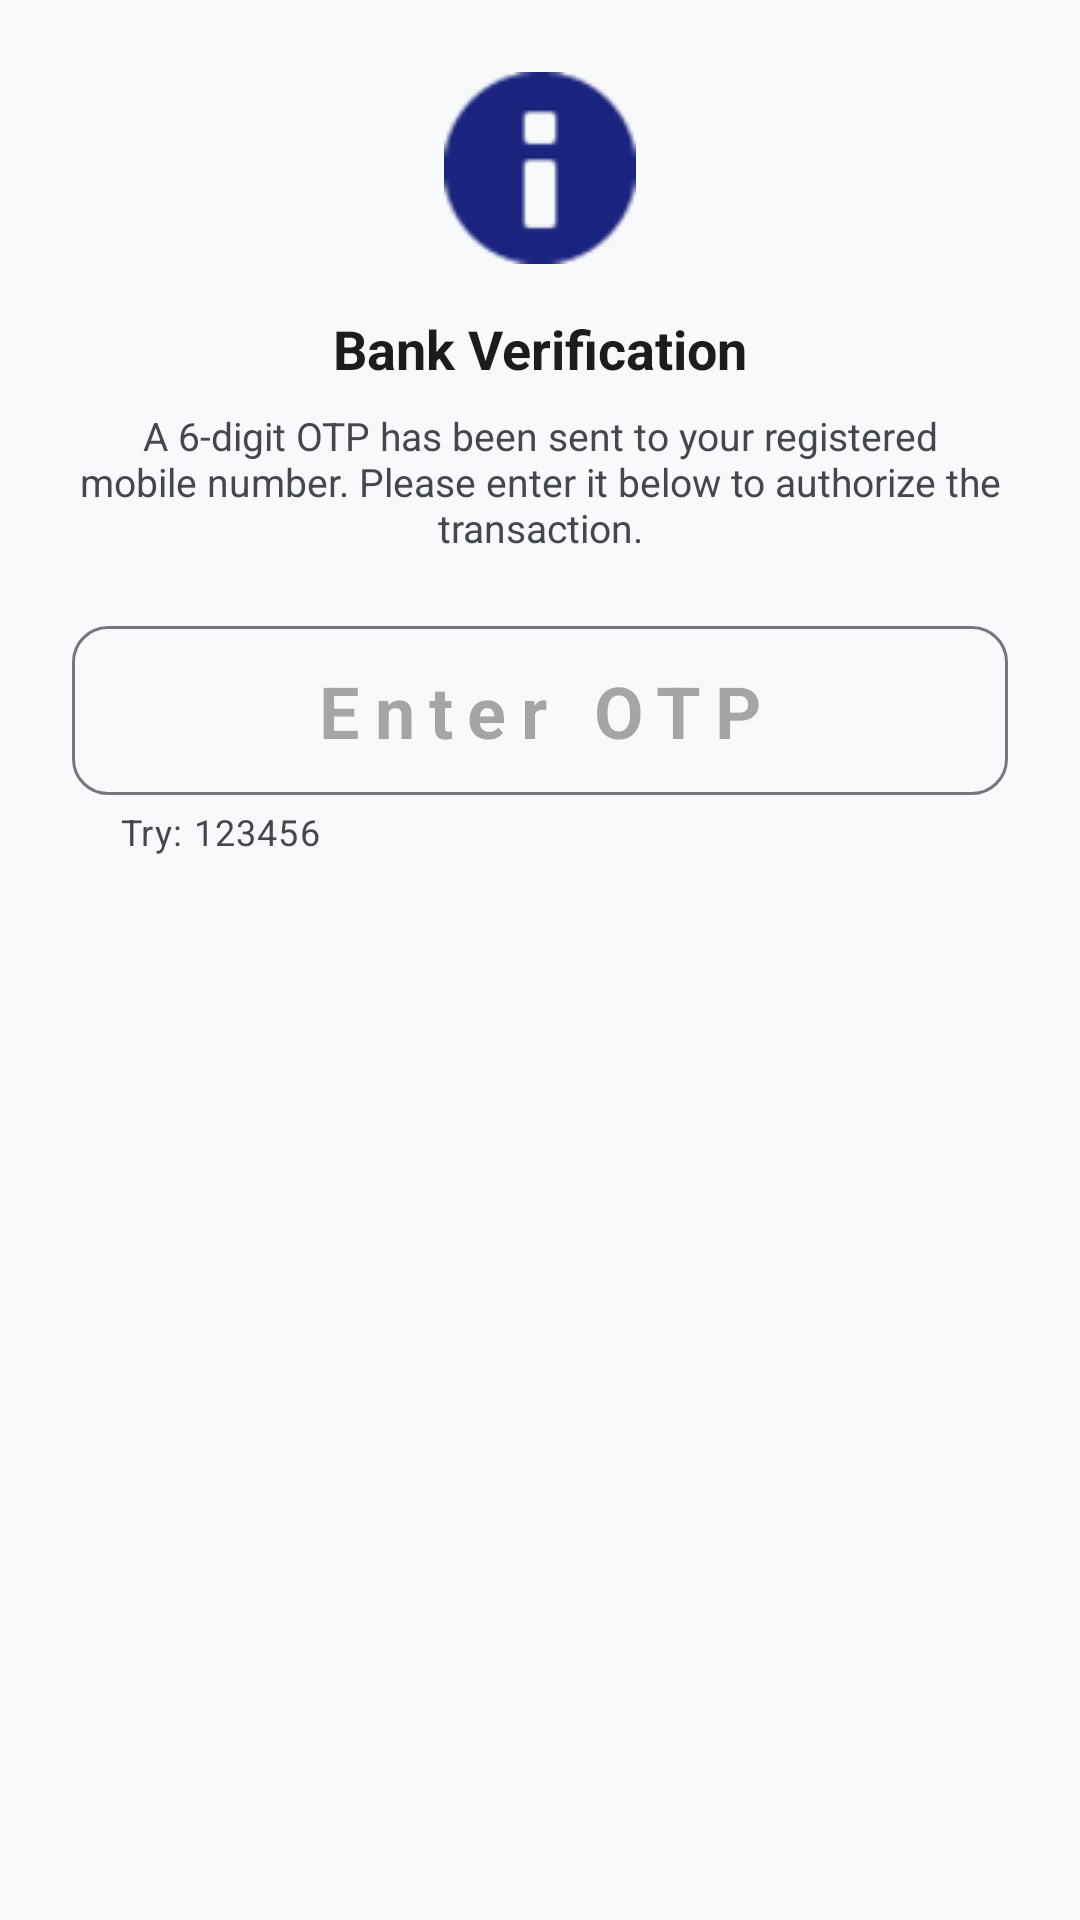

Named icons in this screenshot (1080×1920) and their centers, (x,y):
info: (540,168)
